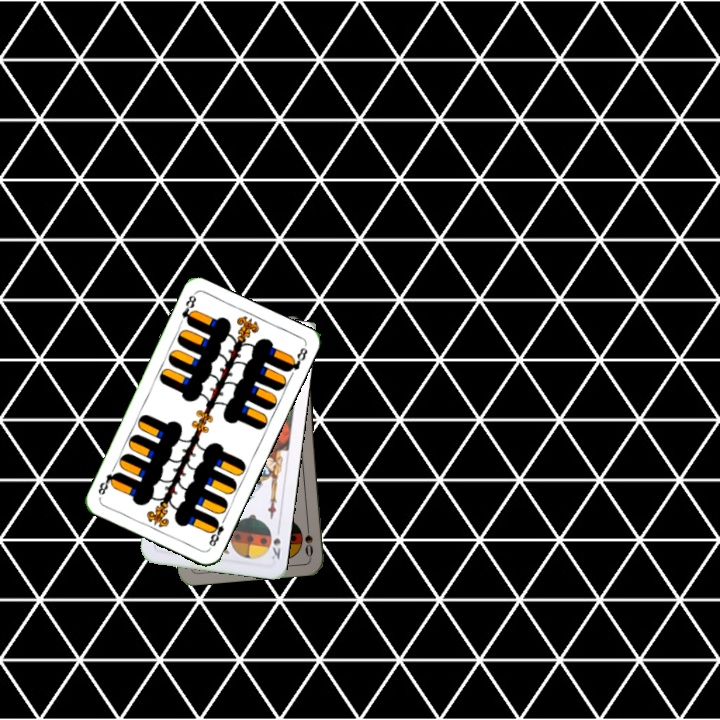E8: (205, 513, 229, 549), (178, 290, 199, 328)
SK: (267, 534, 283, 562)
SO: (301, 519, 316, 559)
